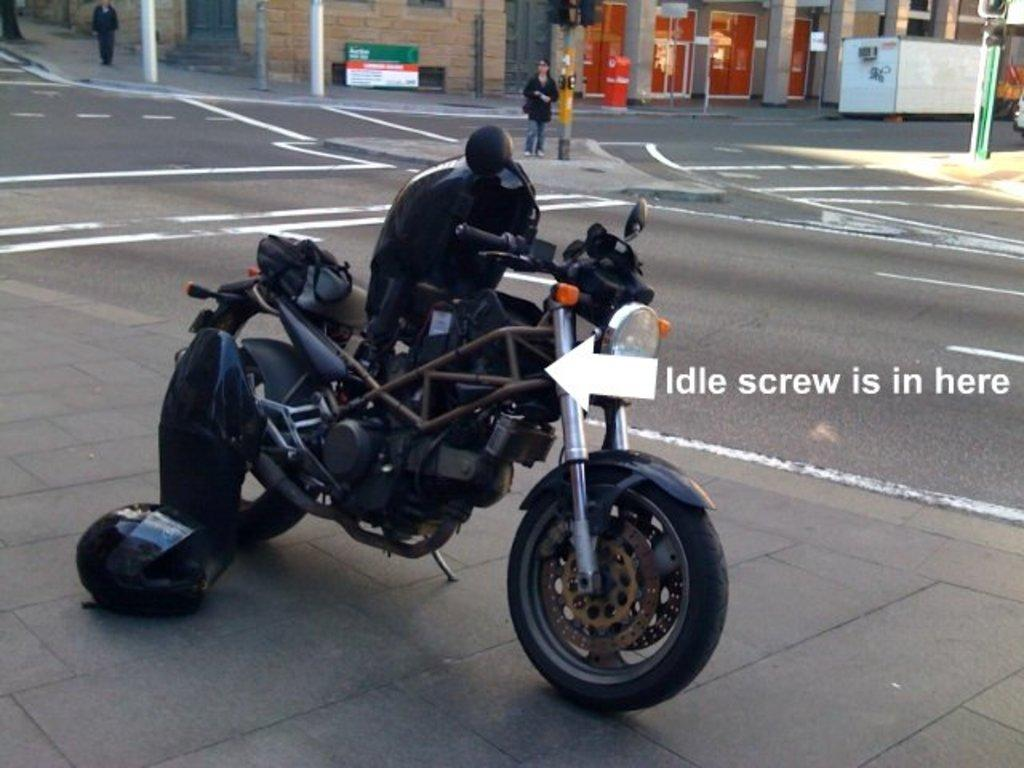helmet: (76, 502, 209, 619)
nohelmet: (537, 58, 551, 75)
